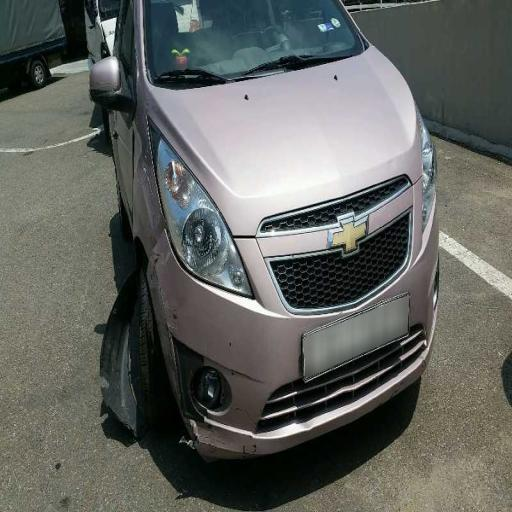broken: (137, 244, 293, 480)
